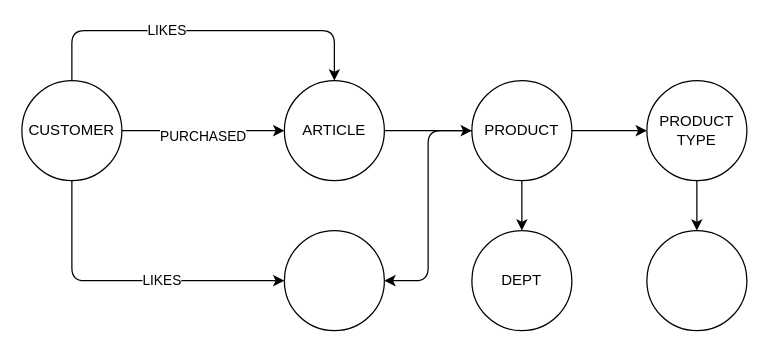
Image size: 769x353. Some labels were removed from this diagram. Each missing label, with the centre of its shape:
"COLOUR" belongs at pixel 333 280.
"PRODUCT GROUP" belongs at pixel 696 280.
